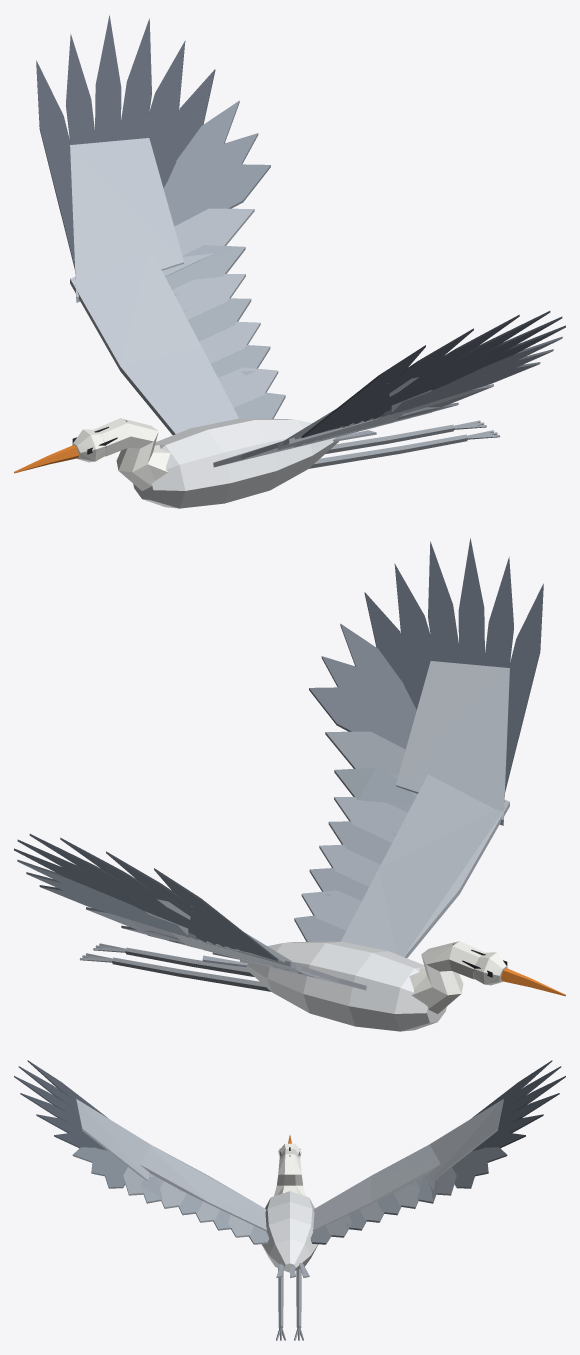
The model's file is heron_flying.glb.
The picture shows the model from 3 angles, top to bottom: view 1: azimuth 30°, elevation 25°; view 2: azimuth 150°, elevation 25°; view 3: azimuth 270°, elevation 25°; orthographic projection. The views are drawn at different scales.
Parts seen in each view (by area): view 1: coverts, primary, body, primary.006, secondary.001, secondary, head, leg; view 2: coverts, primary, body, primary.006, secondary.001, secondary, head, leg; view 3: coverts, primary, secondary.001, body, secondary, primary.006, head, leg.
Boxes of the visible parts, x1,y1,x2,y2 form: coverts: (70, 138, 432, 467); primary: (36, 15, 565, 437); body: (133, 418, 338, 508); primary.006: (163, 100, 562, 417); secondary.001: (162, 208, 493, 455); secondary: (165, 245, 458, 450); head: (72, 418, 170, 490); leg: (309, 420, 500, 468); coverts: (145, 661, 509, 990); primary: (14, 538, 543, 960); body: (240, 941, 446, 1031); primary.006: (17, 623, 416, 940); secondary.001: (86, 731, 417, 978); secondary: (121, 768, 415, 976); head: (409, 941, 507, 1013); leg: (79, 943, 270, 991); coverts: (76, 1099, 503, 1231); primary: (14, 1060, 565, 1150); secondary.001: (123, 1167, 456, 1237); body: (261, 1191, 318, 1272); secondary: (141, 1176, 438, 1244); primary.006: (72, 1147, 507, 1188); head: (274, 1143, 305, 1196); leg: (276, 1268, 303, 1340).
Bounding box in the file's own units: 1.23 × 0.7687 × 1.83.
